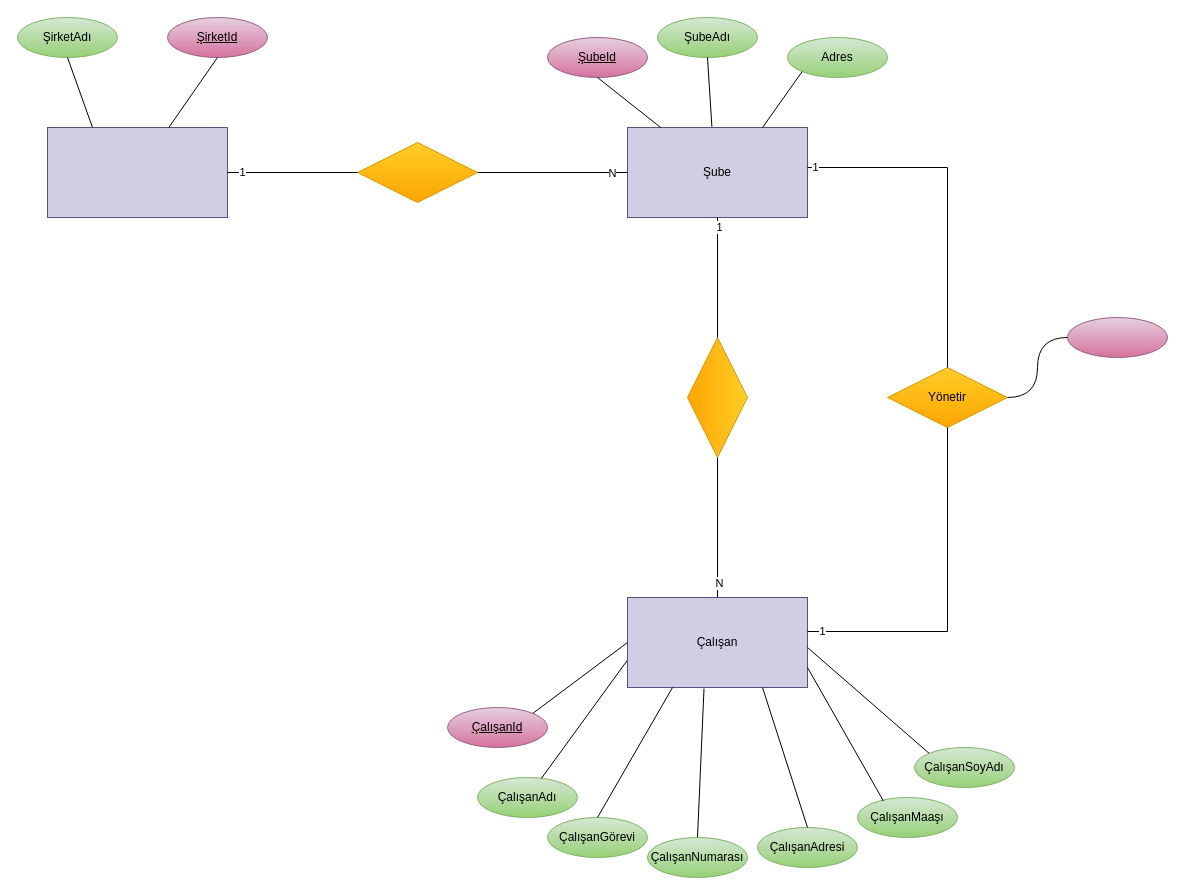
Some shapes in this 1185 by 895 pixel diagram are drawn without their labels. The shapes that lost their labels are listed below. From the top down, each one's centre as x and y in pixels, then its label:
At point (137, 172): "Şirket".
At point (417, 172): "Sahiptir".
At point (1117, 337): "YöneticiId".
At point (717, 397): "Çalışır".
